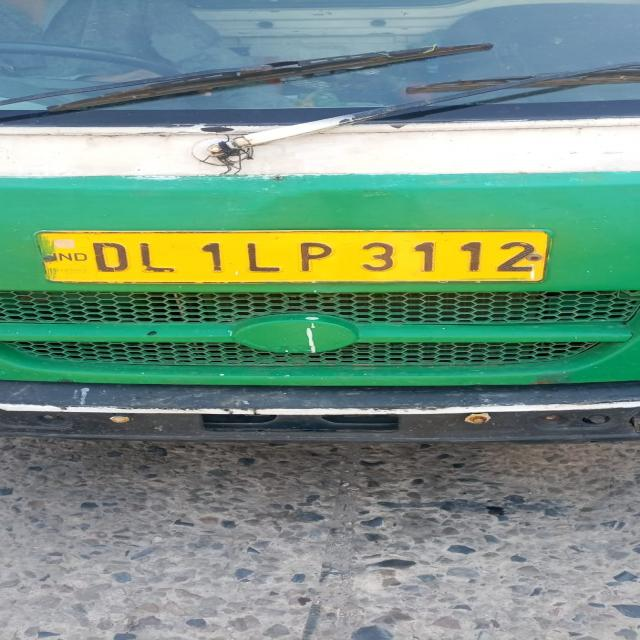License-plate: (41, 229, 557, 281)
